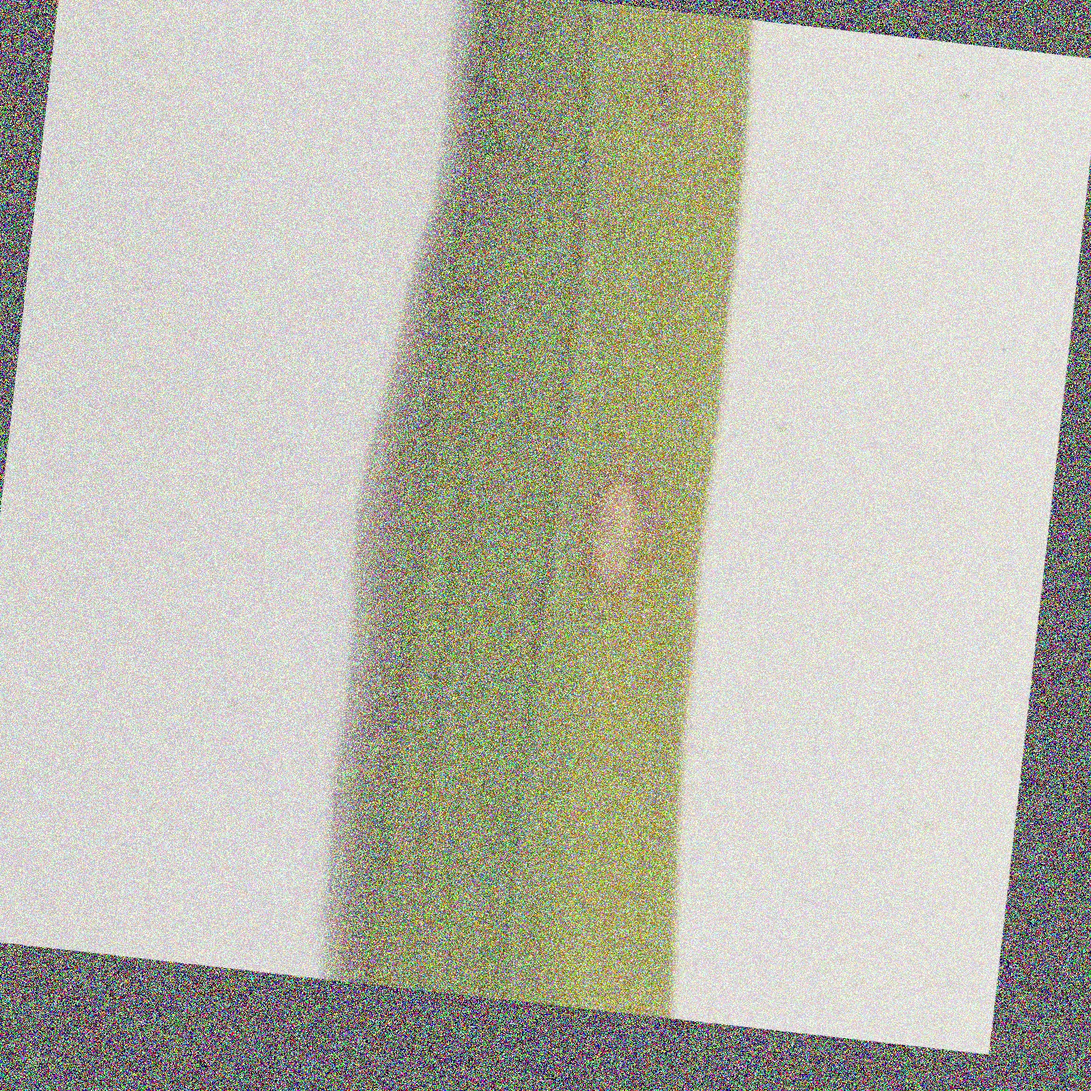Brown_Spot: (566, 442, 667, 605)
